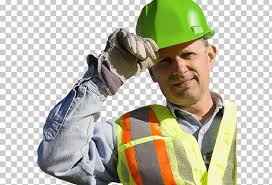hard hat: (136, 1, 215, 52)
high-vis: (115, 103, 236, 185)
